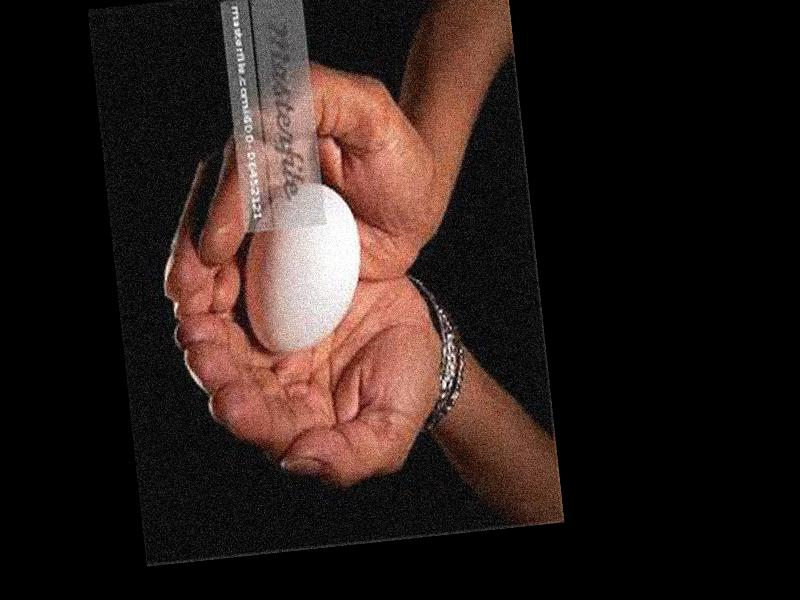Eggs: (232, 184, 368, 358)
